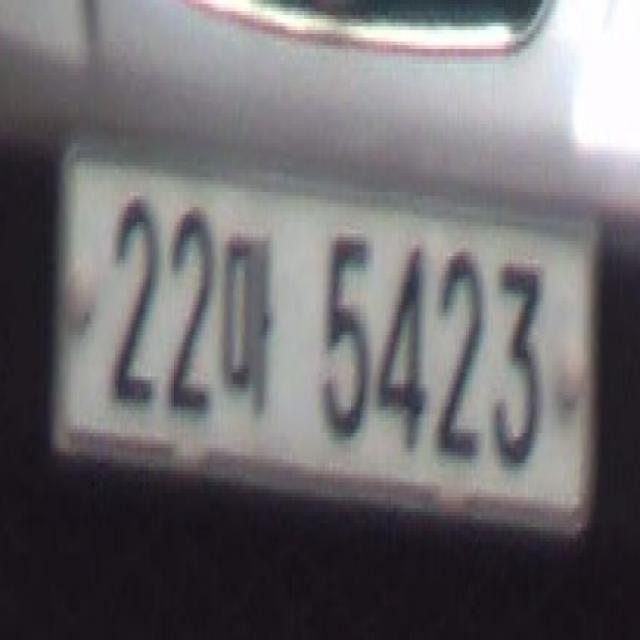2: (101, 186, 164, 424), (434, 237, 491, 474), (163, 191, 219, 428)
3: (492, 238, 552, 490)
4: (375, 227, 434, 468)
5: (312, 216, 378, 455)
license_plate: (59, 152, 594, 518)
ma: (221, 216, 281, 438)
